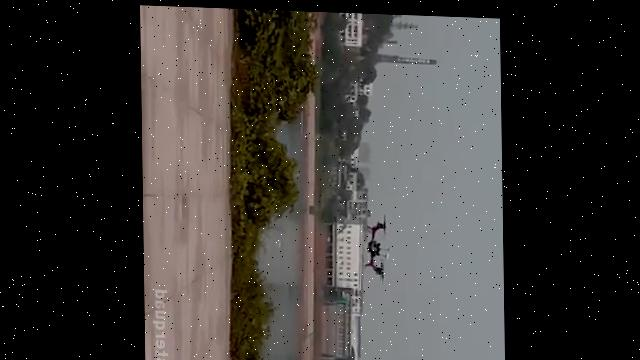drone: (359, 207, 396, 282)
